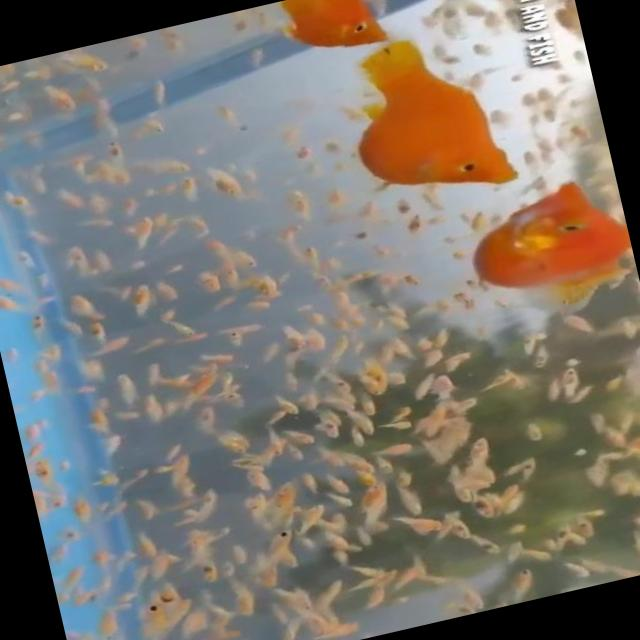PlatyFish: (324, 7, 536, 217), (457, 166, 639, 314), (268, 0, 401, 66)
